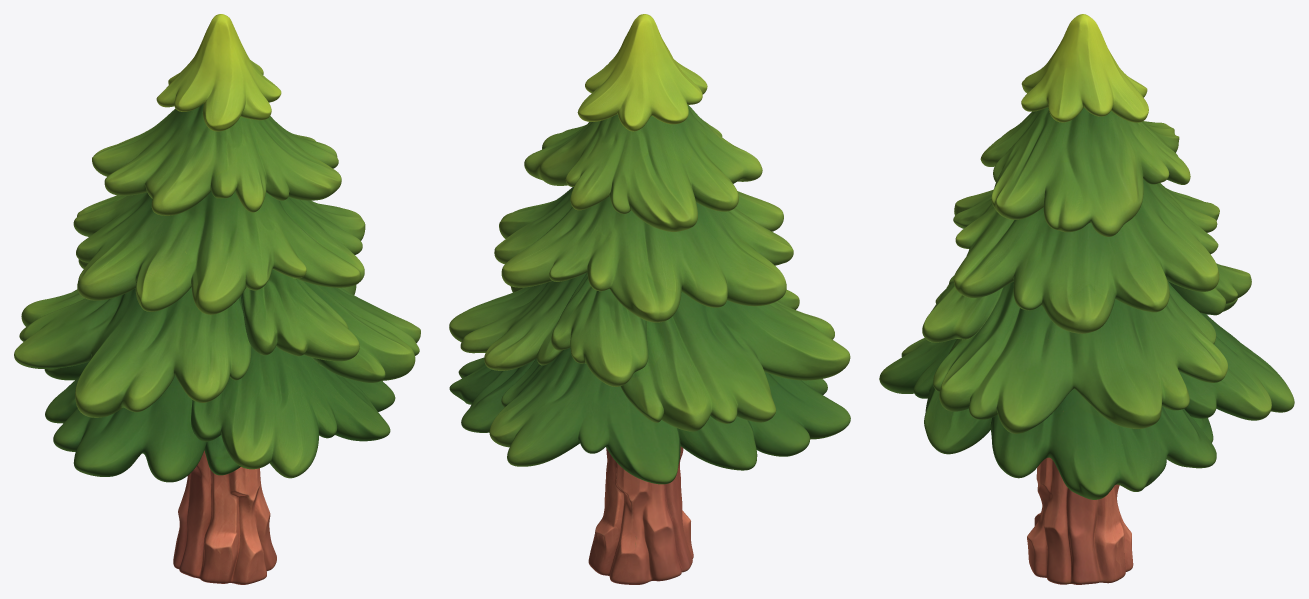
File: pine-medium-rounded-01.glb
3 views of the same model, side by side, from view 1: azimuth 30°, elevation 25°; view 2: azimuth 150°, elevation 25°; view 3: azimuth 270°, elevation 25° (orthographic).
Size of the model in its own units: 1.26 by 1.9 by 1.29.
Materials: 1 (1 with a texture image).
